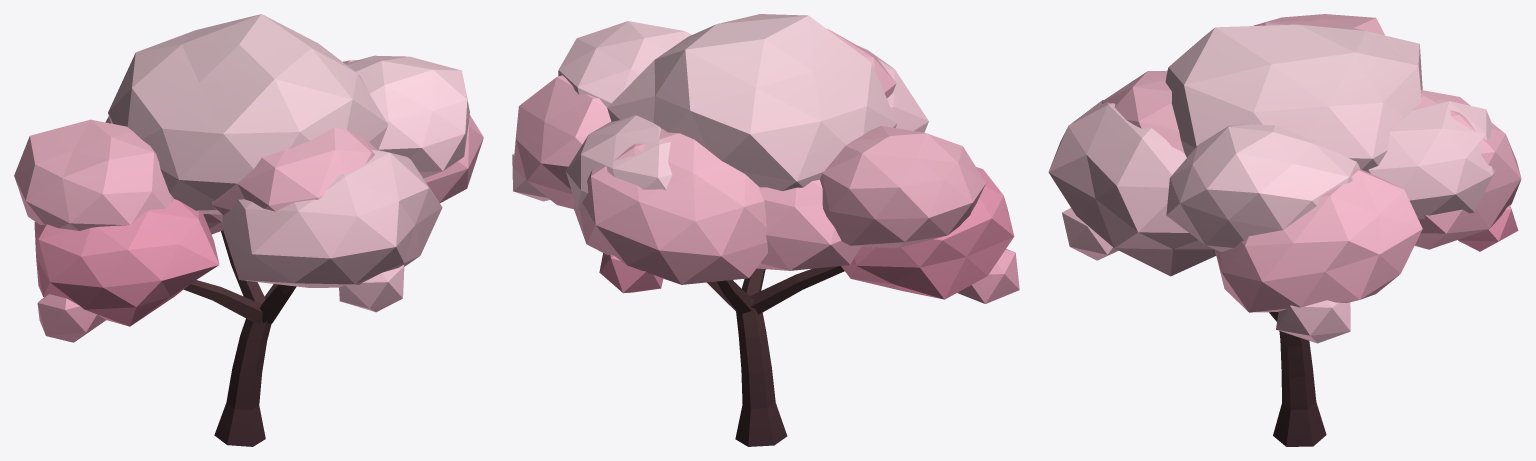
The model's file is sakura_a.glb.
3 views of the same model, side by side, from view 1: azimuth 30°, elevation 25°; view 2: azimuth 150°, elevation 25°; view 3: azimuth 270°, elevation 25° (orthographic). The views are drawn at different scales.
Parts seen in each view (by area): view 1: sakura_a; view 2: sakura_a; view 3: sakura_a.
Boxes of the visible parts, x1=… form: sakura_a: x1=14, y1=14, x2=483, y2=446; sakura_a: x1=512, y1=14, x2=1019, y2=446; sakura_a: x1=1048, y1=14, x2=1521, y2=446.
Bounding box in the file's own units: 6.55 × 5.39 × 5.62.
